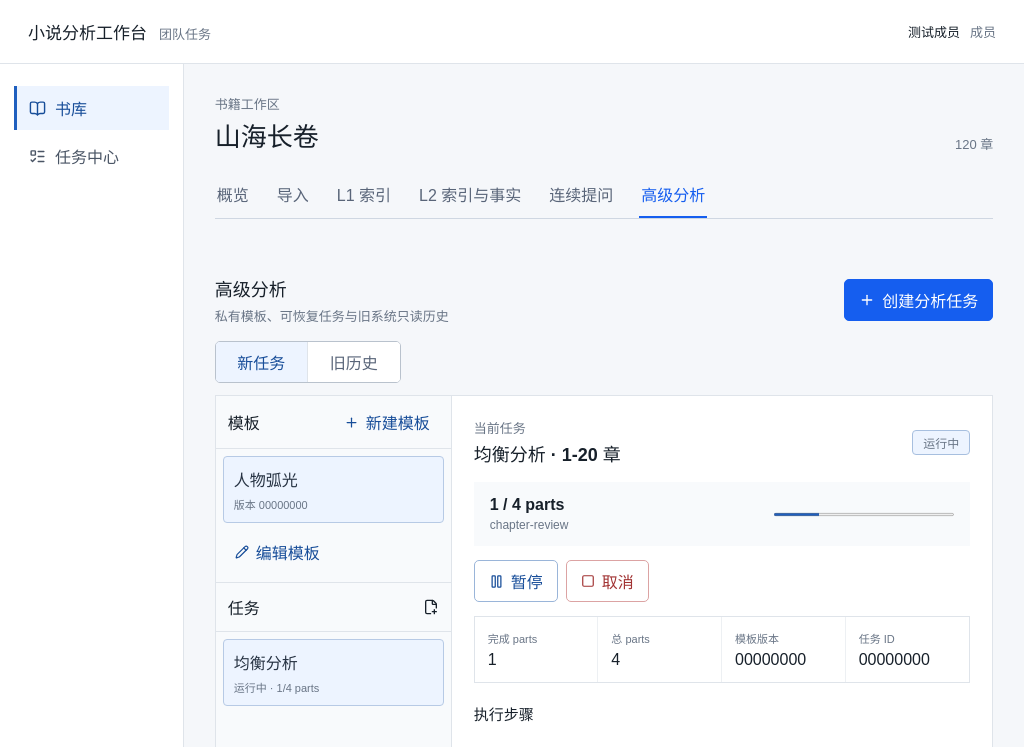
Test case: book-scoped advanced analysis workspace › reconciles a lost cancel response and retries with one stable request key
Click the button "取消" at (607, 581), box [566,560,649,602]
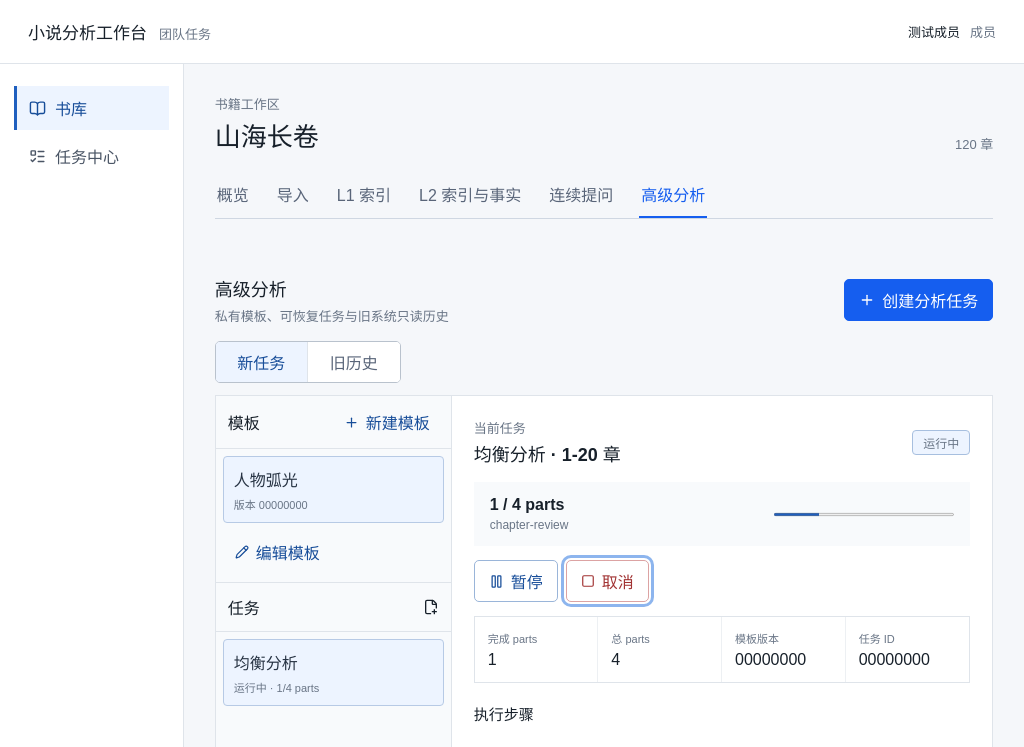
Click the button "取消" at (607, 581), box [566,560,649,602]
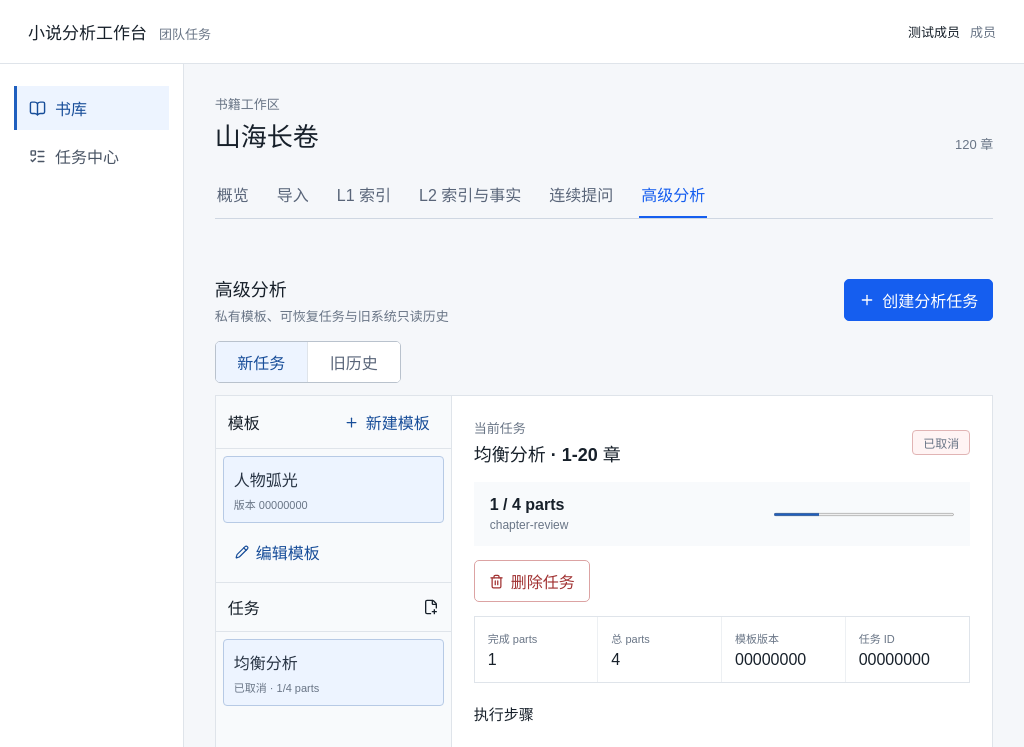
Expected: the button "删除任务" is shown, [474,560,590,602]
